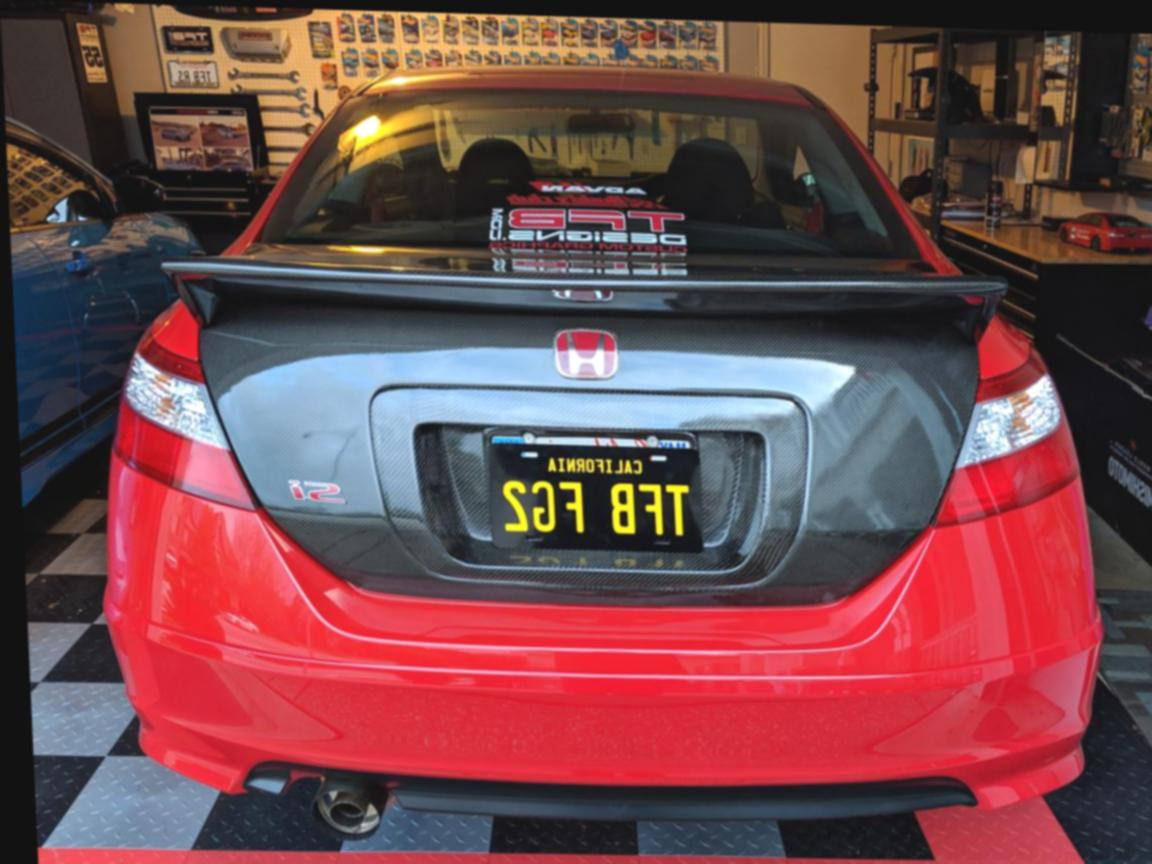License_Plate: (478, 423, 709, 562)
